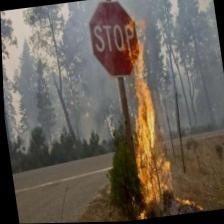Stop: (86, 0, 144, 81)
